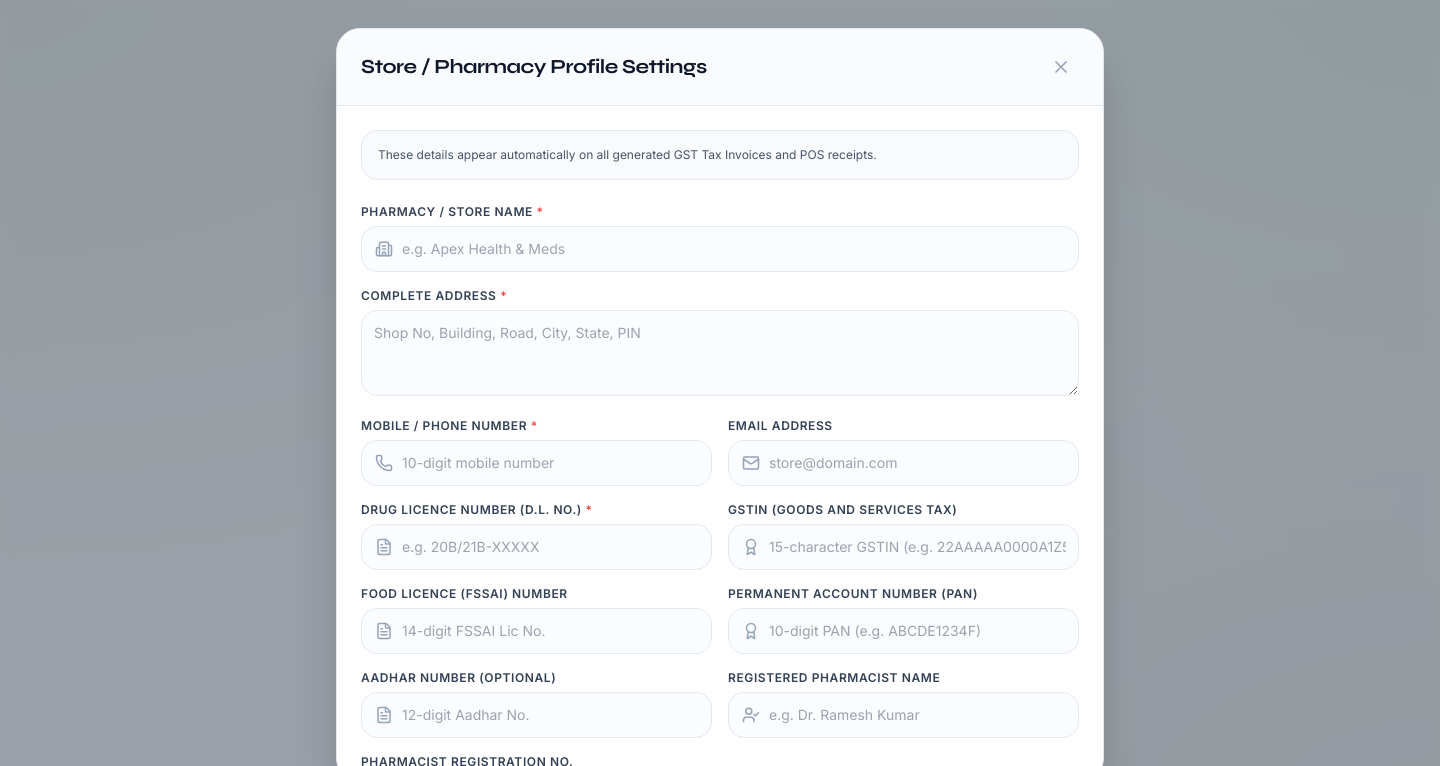
it: components/StoreSettingsModal.jsx › validates 10-digit mobile number format
Step 1. Type "Apex Meds" into the field with placeholder "e.g. Apex Health & Meds" → (720, 249), box [361,226,1079,272]
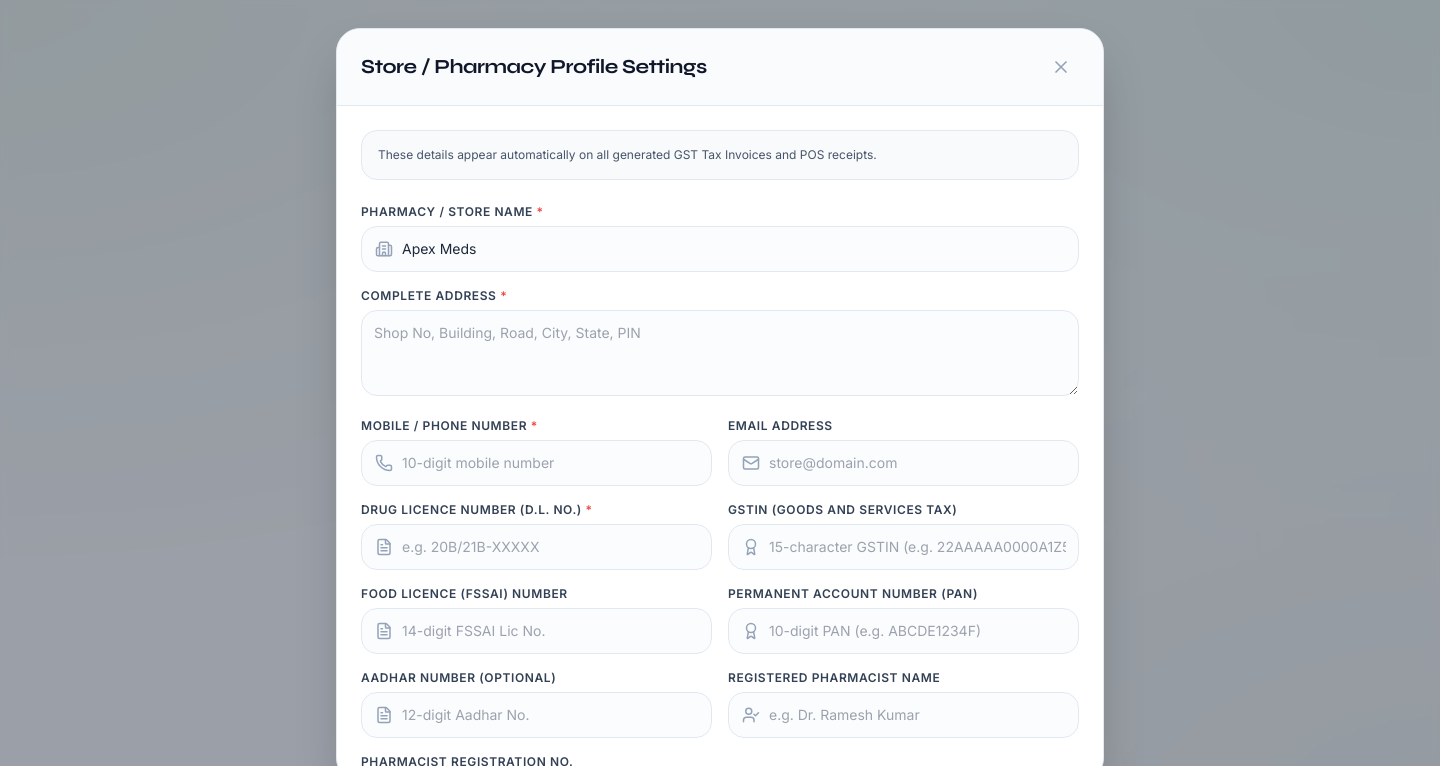
Step 2. Type "Main Road" into the text box with placeholder "Shop No, Building, Road, City, State, PIN" → (720, 353), box [361,310,1079,396]
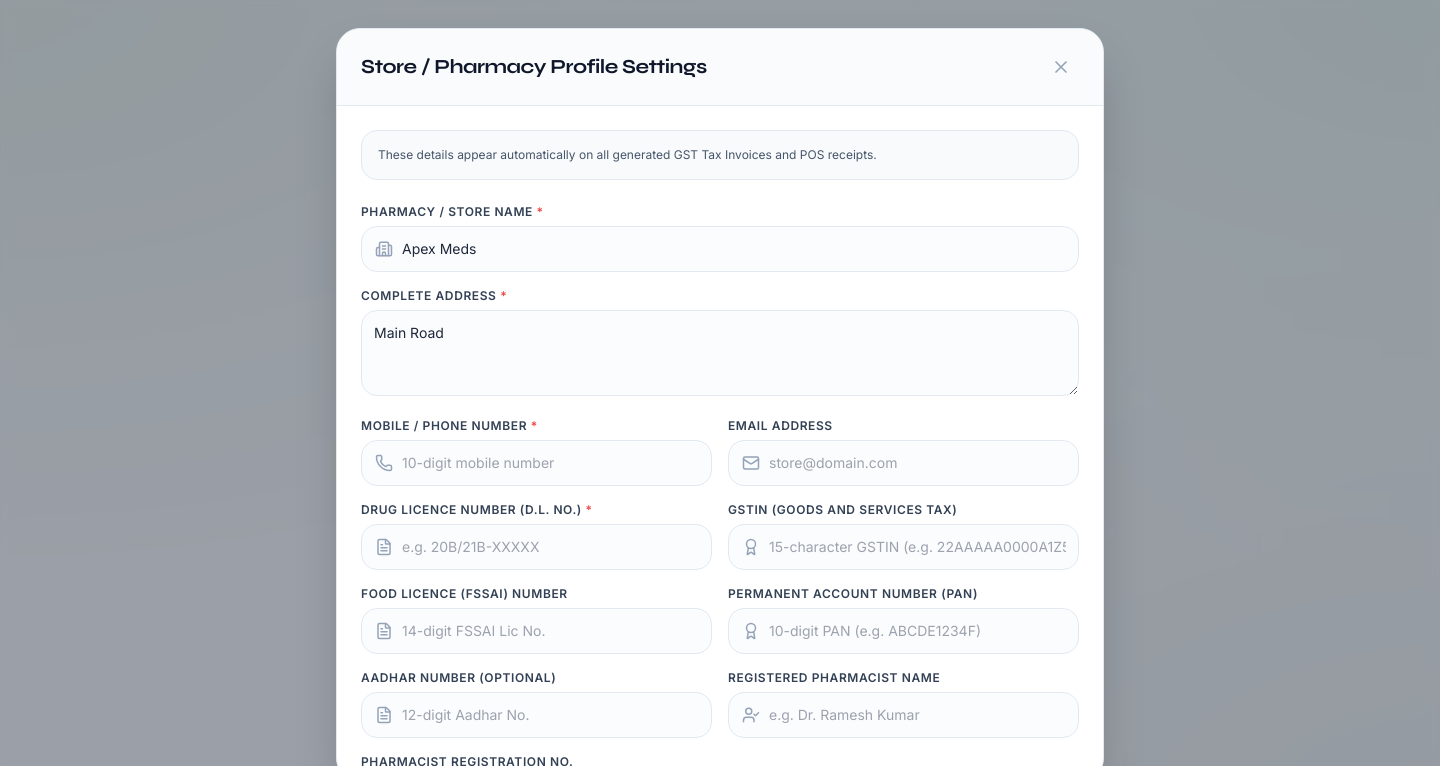
Step 3. Type "12345" into the field with placeholder "10-digit mobile number" → (536, 463), box [361,440,712,486]
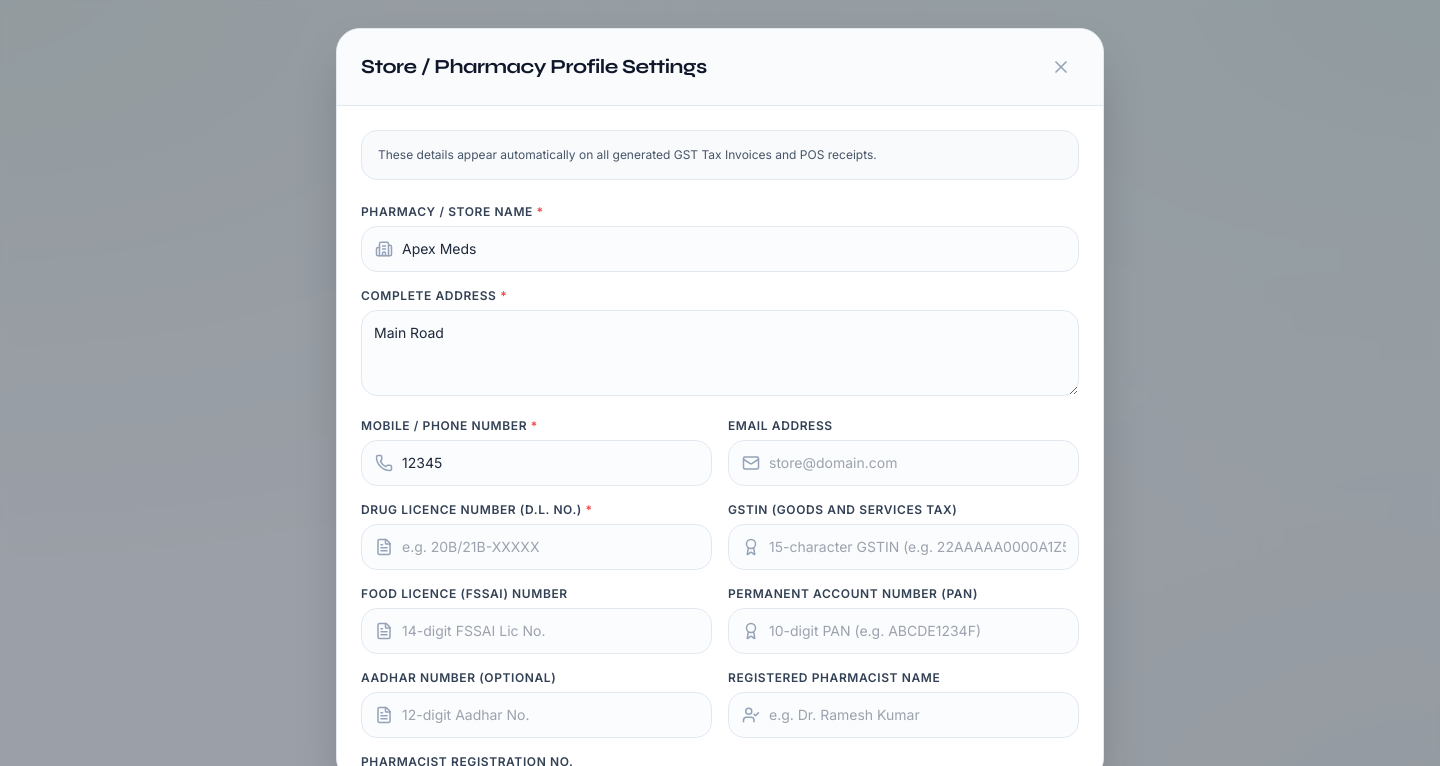
Step 4. Type "DL-999" into the field with placeholder "e.g. 20B/21B-XXXXX" → (536, 547), box [361,524,712,570]
(page scrolled)
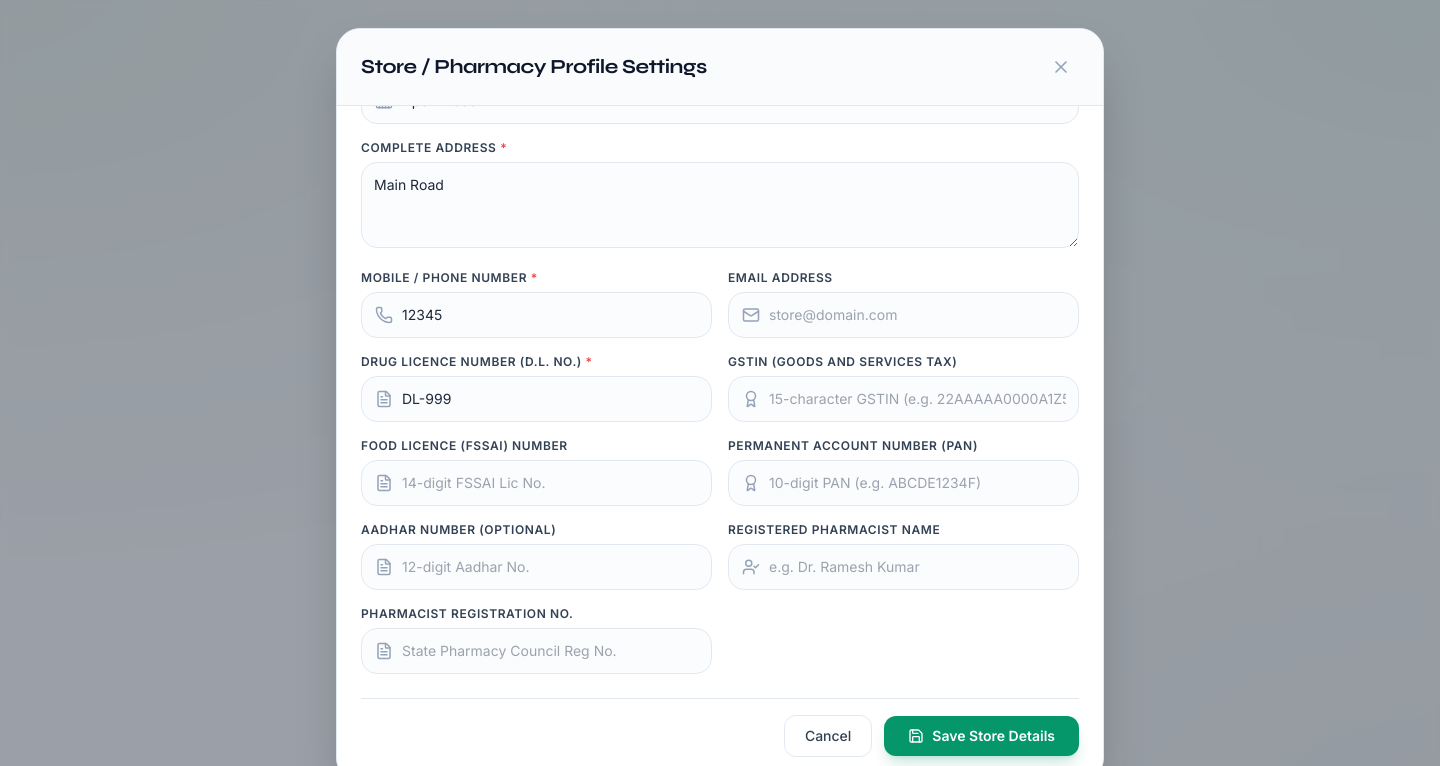
Step 5. Click the button "Save Store Details" → (982, 736), box [884,716,1079,756]
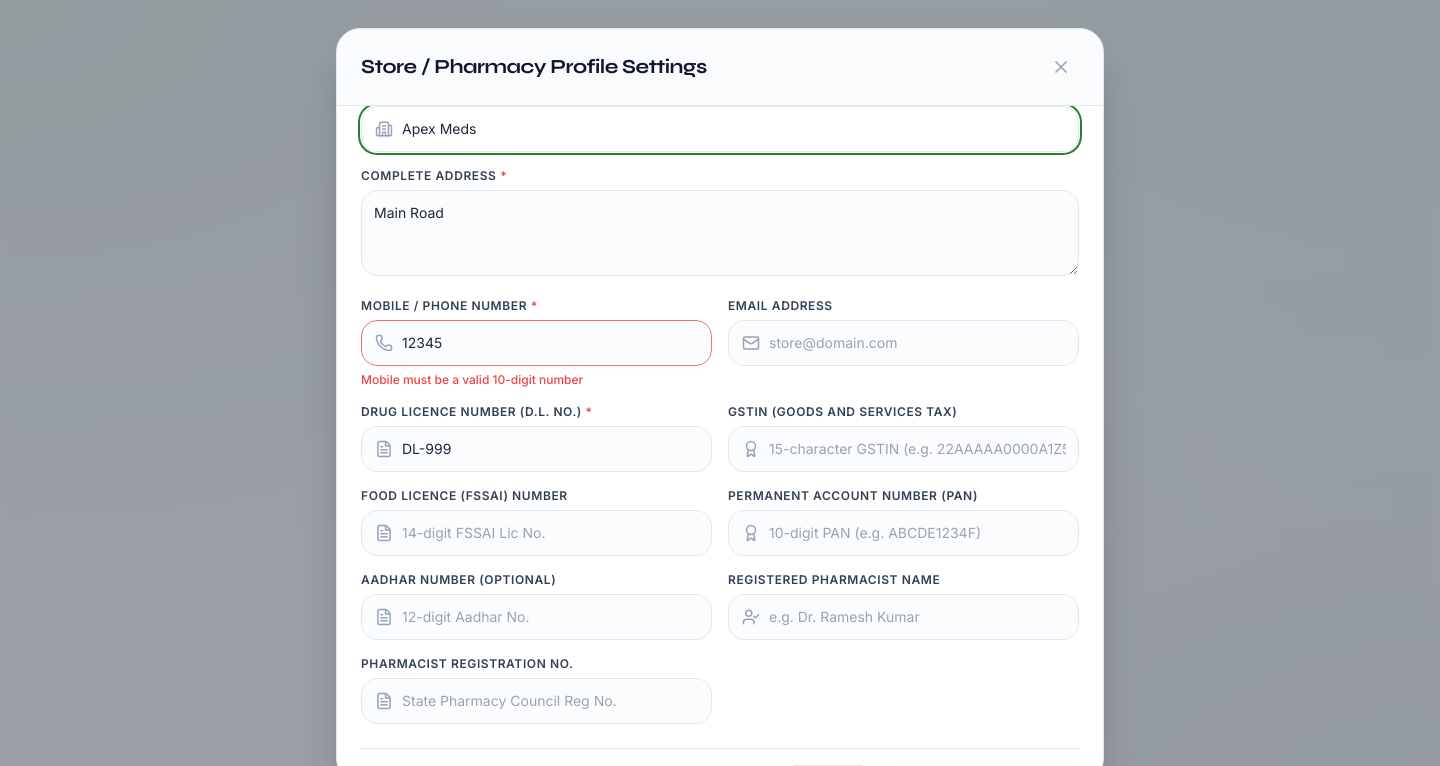
Expected: the text "Mobile must be a valid 10-digit number" is shown, [361,372,583,387]
